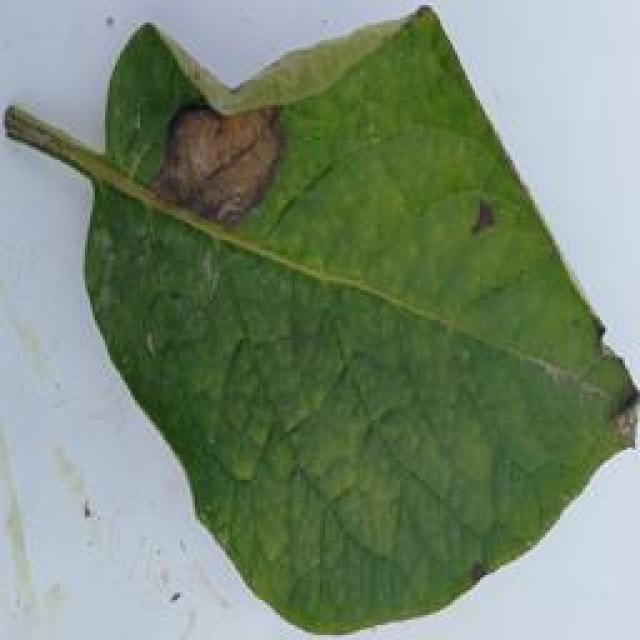Potato_Late_Blight: (2, 6, 632, 636)
